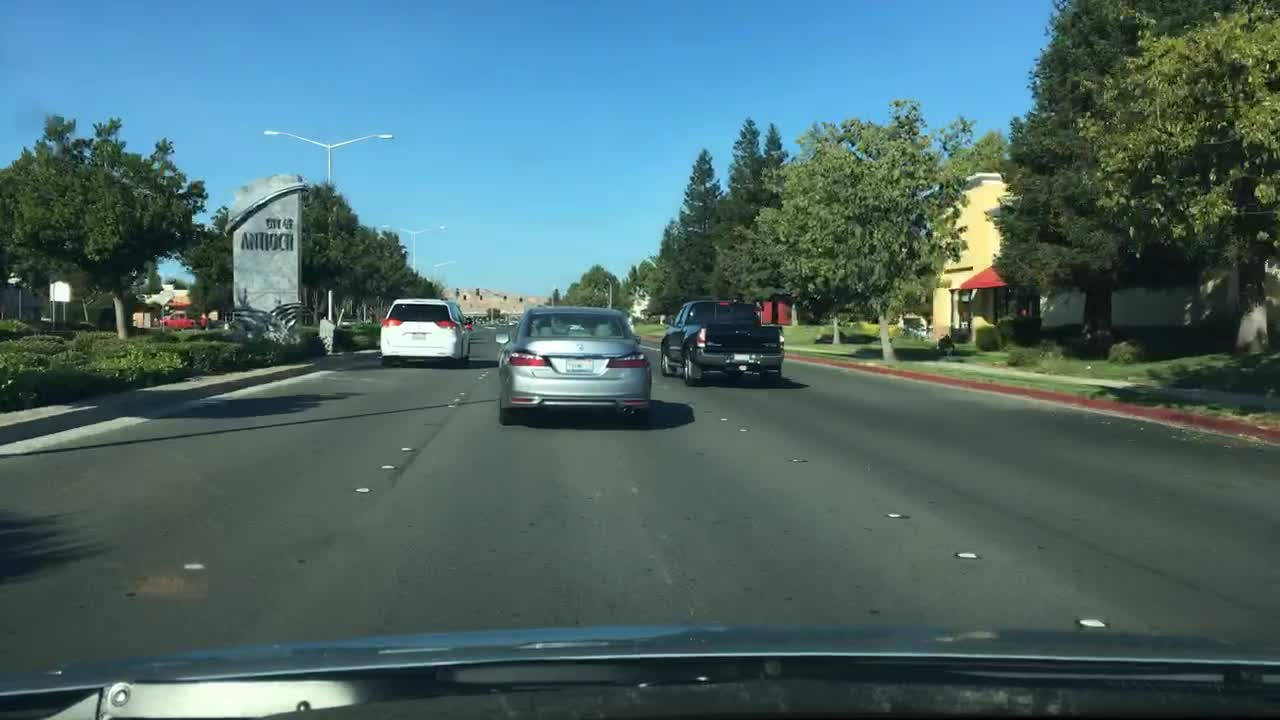car: (497, 306, 650, 422), (379, 298, 473, 366), (159, 312, 208, 328), (340, 313, 362, 326), (645, 314, 665, 324), (494, 319, 505, 326), (508, 317, 515, 326)
traffic light: (452, 286, 459, 295), (516, 293, 522, 303), (473, 286, 479, 295), (462, 290, 467, 300), (501, 291, 506, 300), (477, 290, 481, 300)
truck: (659, 299, 785, 385)
